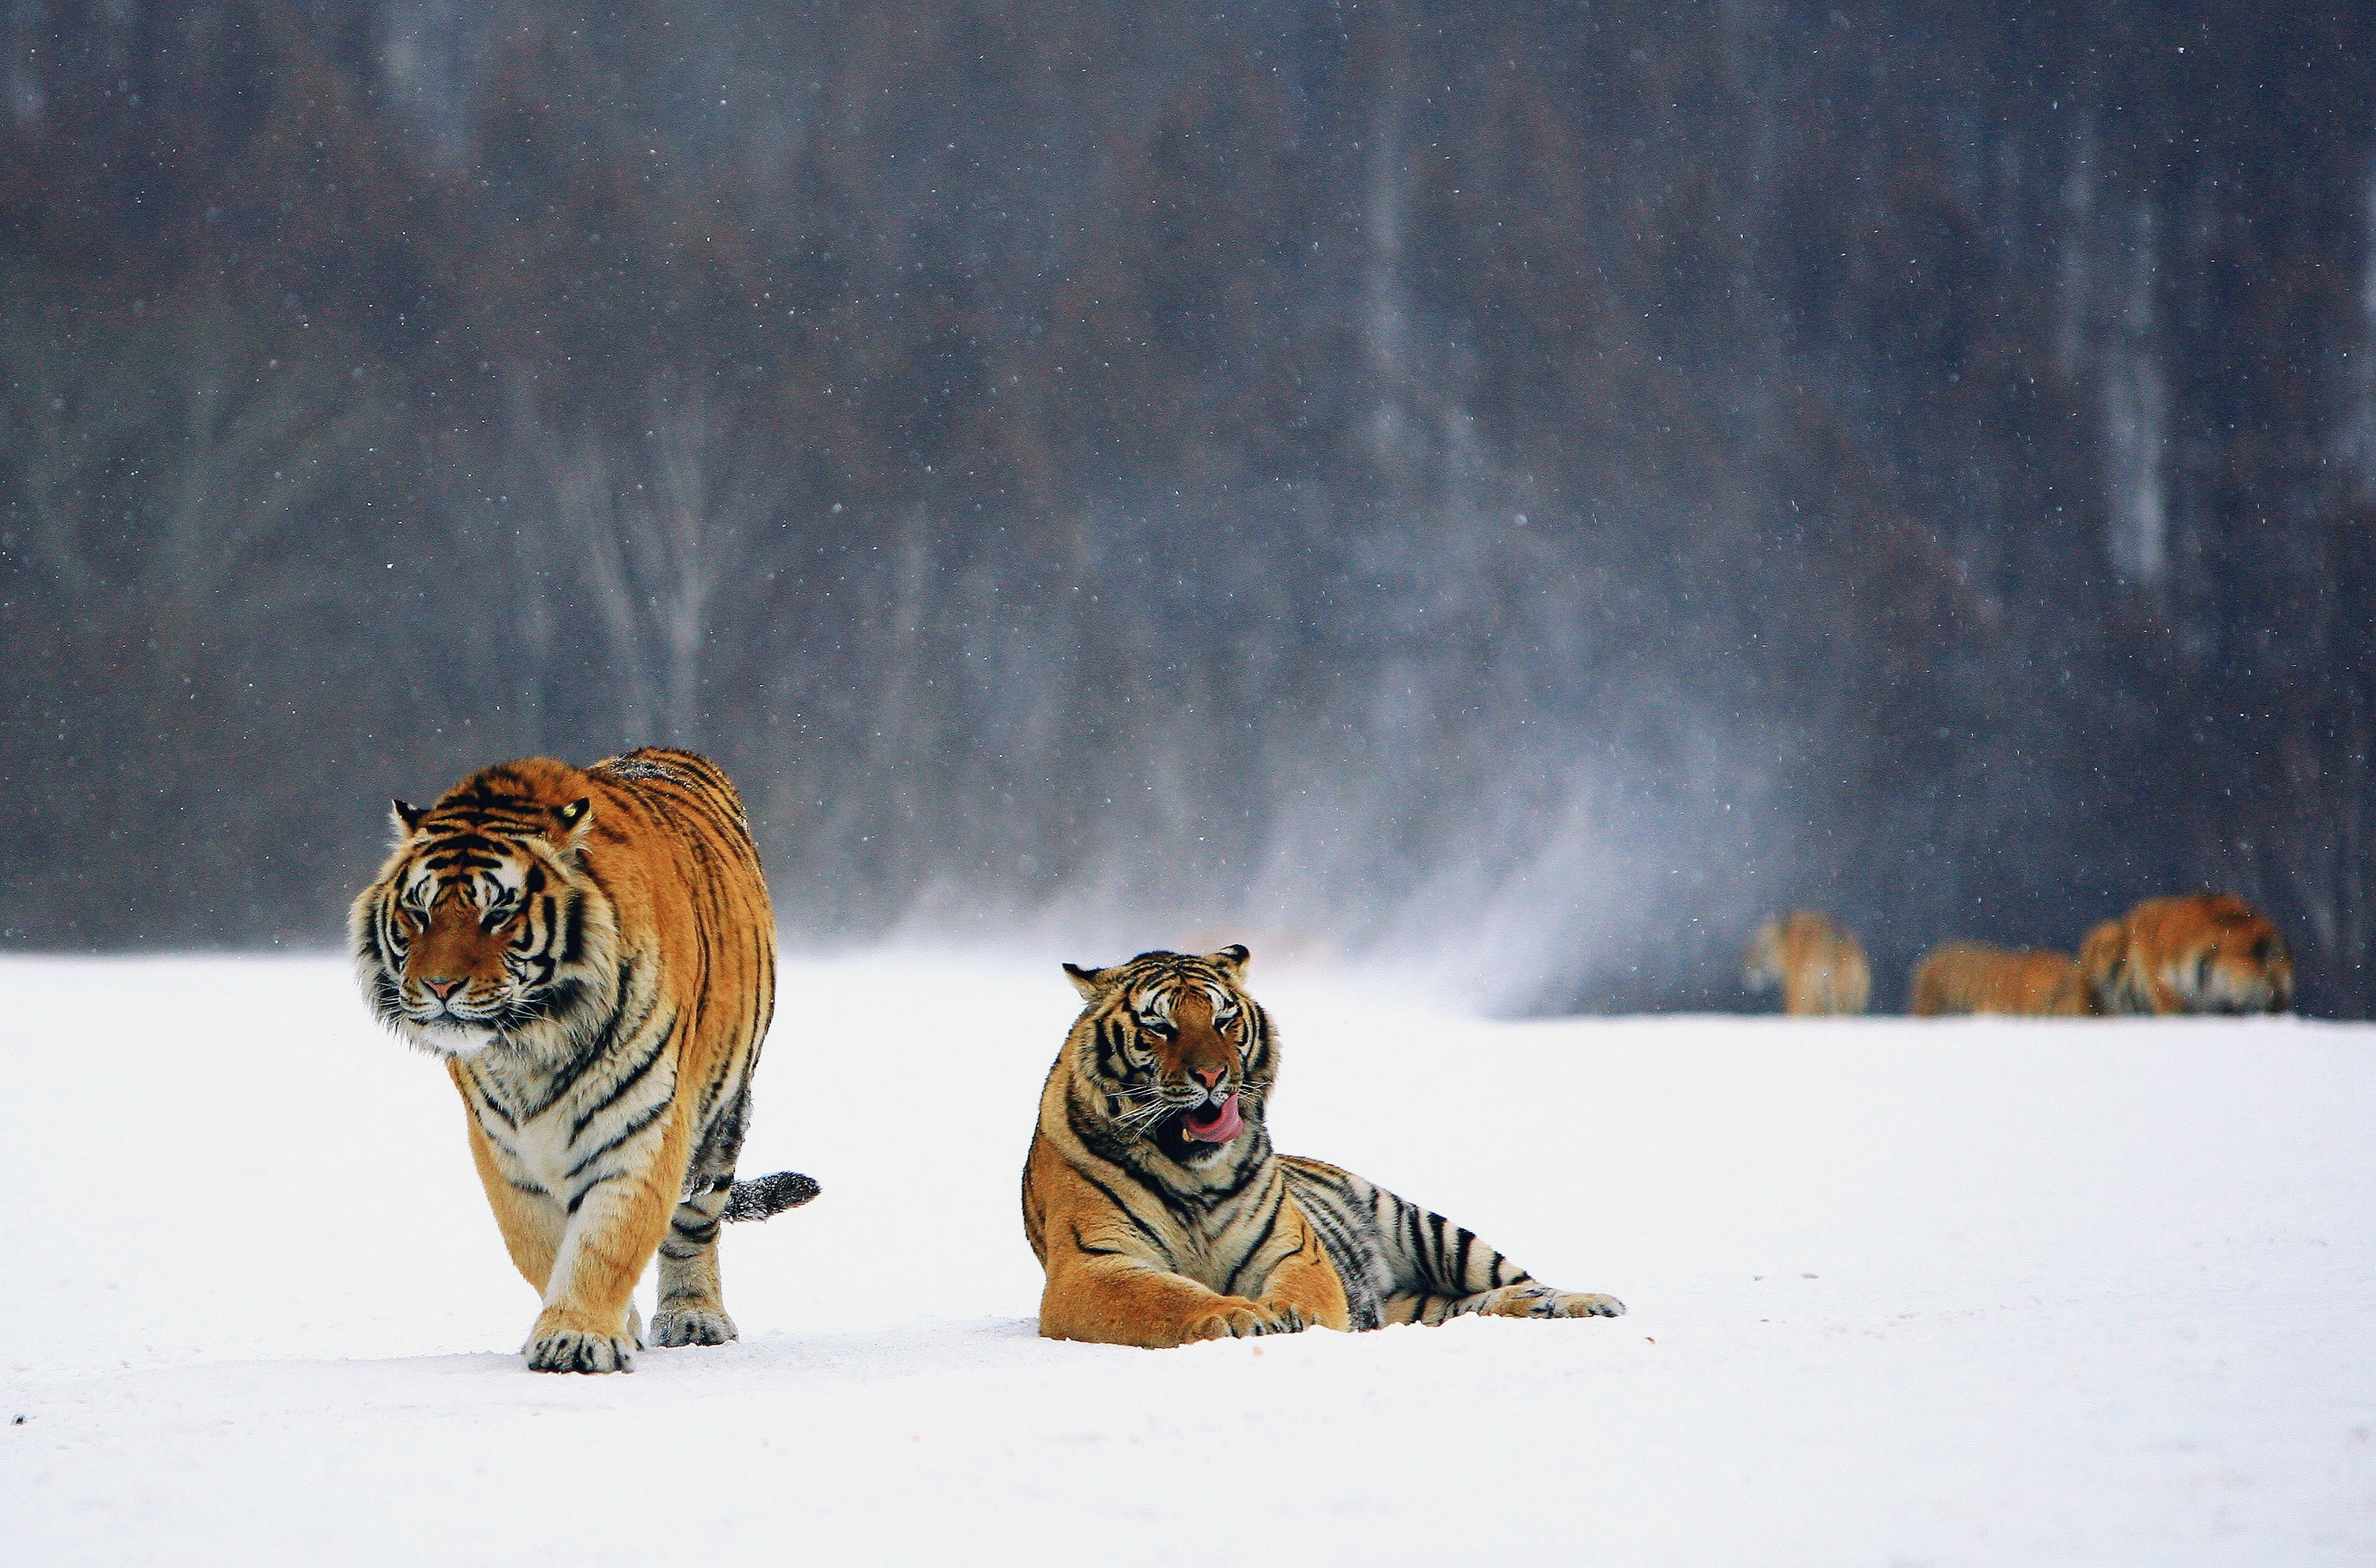tiger: (985, 884, 1695, 1417), (334, 693, 856, 1386)
